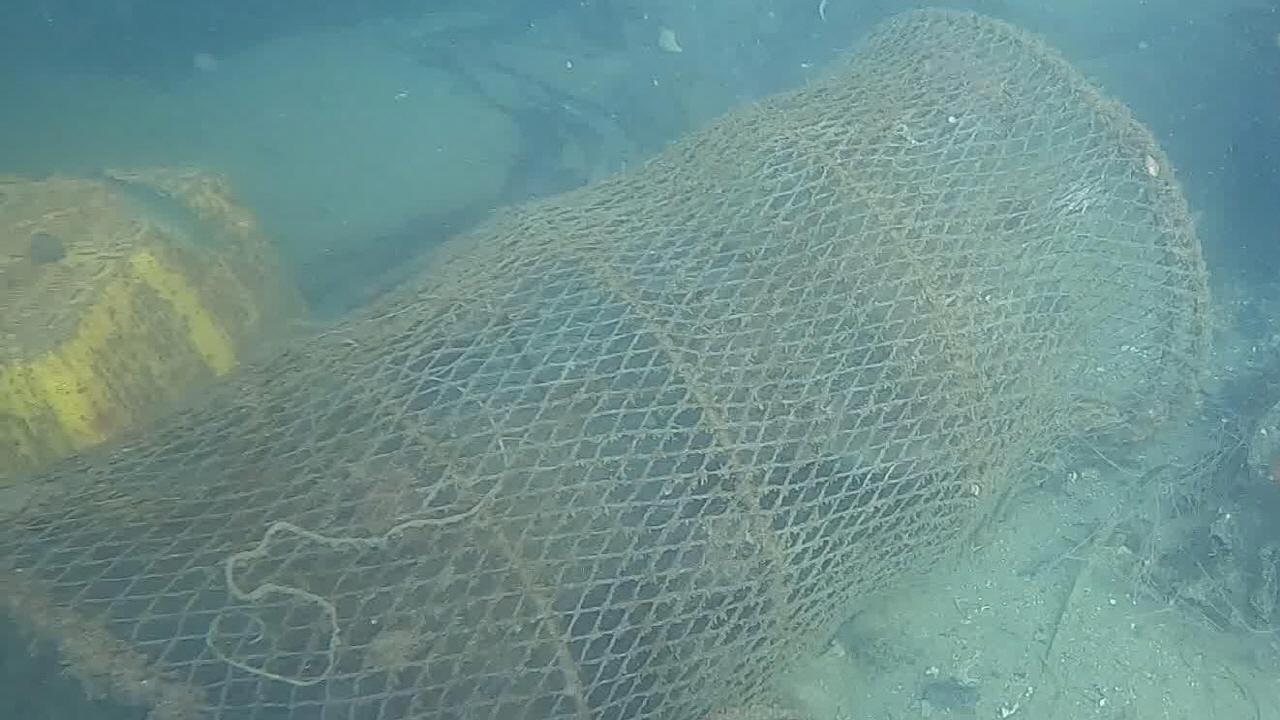spring fish trap: (0, 6, 1212, 720)
